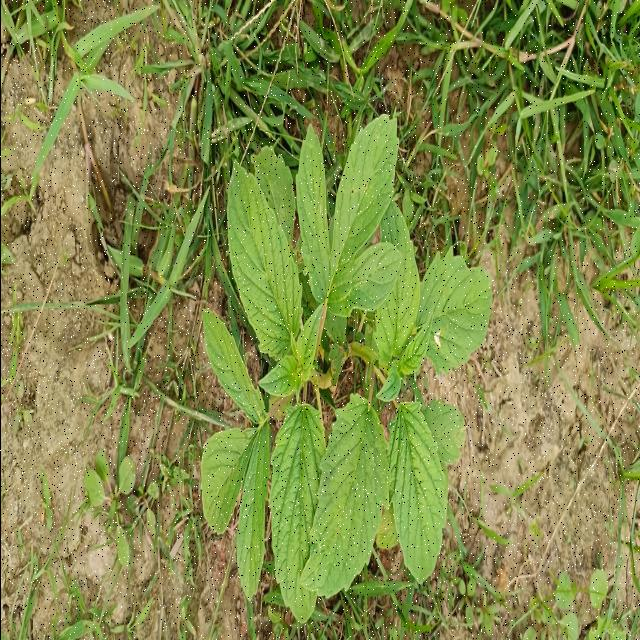plant: (200, 116, 491, 625)
